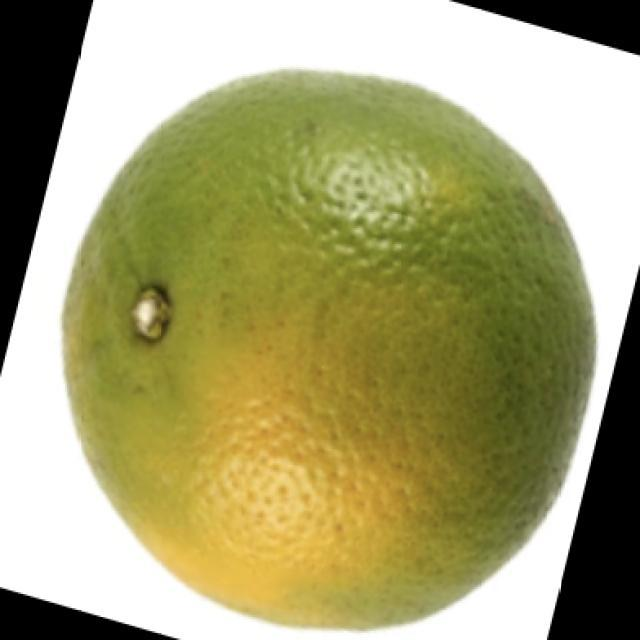Orange: (59, 66, 598, 632)
